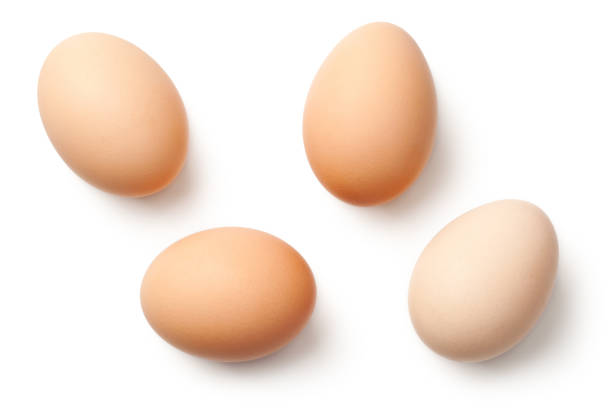Egg: (399, 190, 573, 368)
